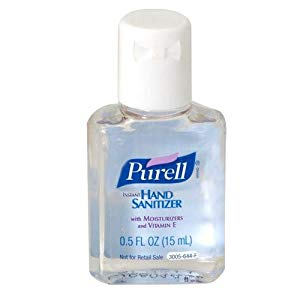Sanitizer: (83, 6, 228, 290)
